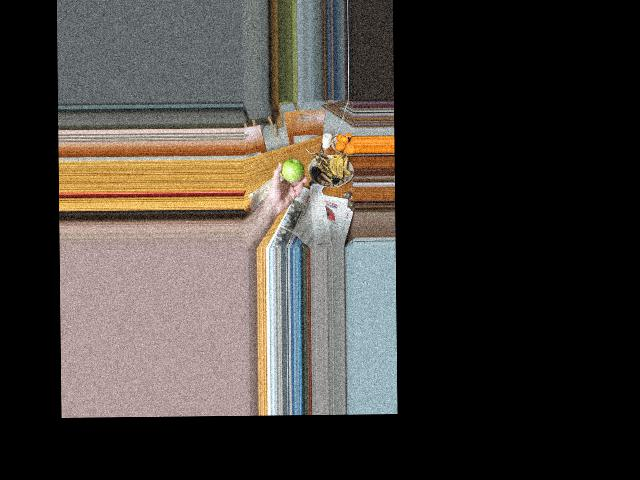apple: (281, 158, 305, 181)
